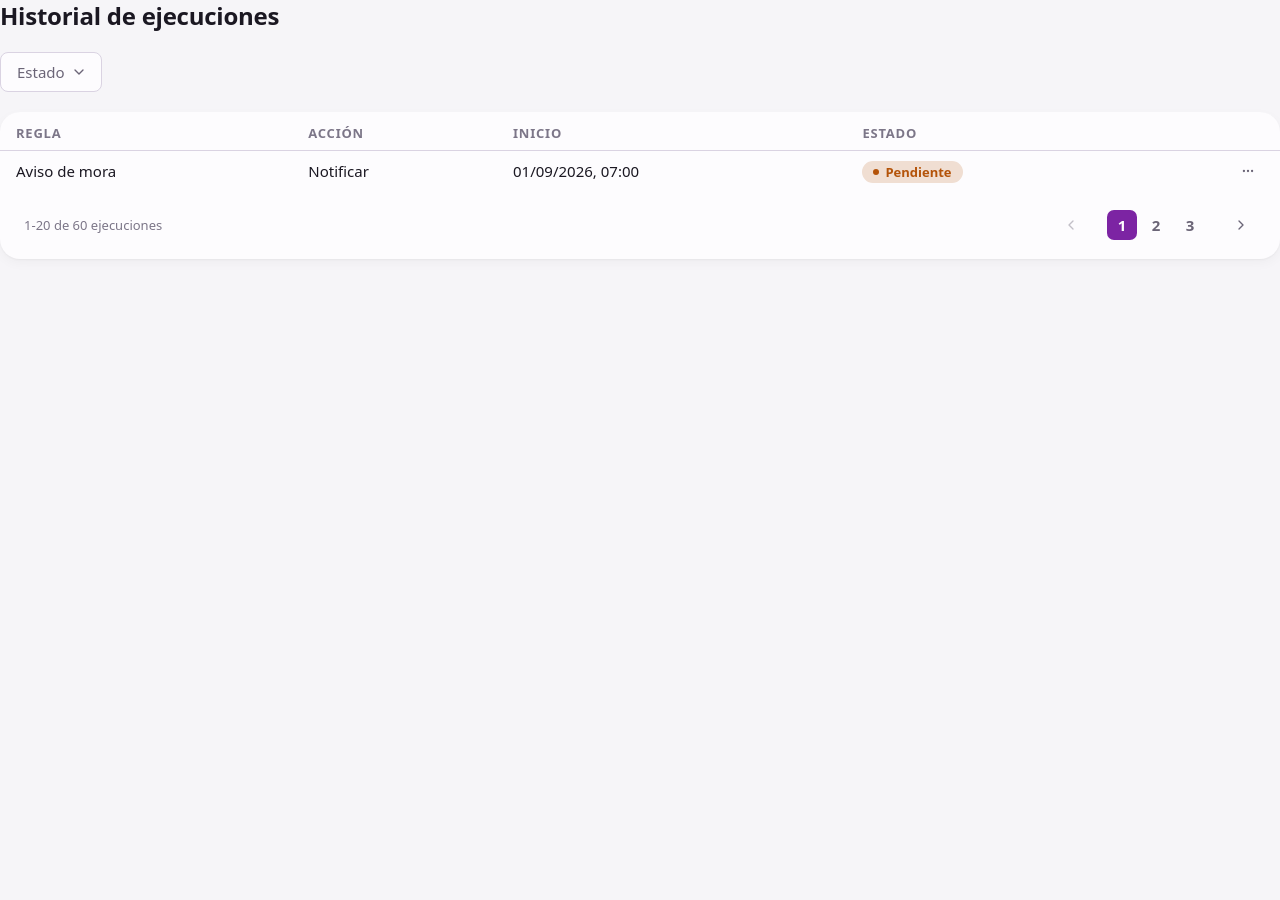
Test: EjecucionesWorkflowPage › aprobación › desde el detalle también se puede aprobar y el detalle muestra el resultado
The image size is (1280, 900).
Click the button named "Acciones para ": (1248, 171) [1232,155,1264,187]
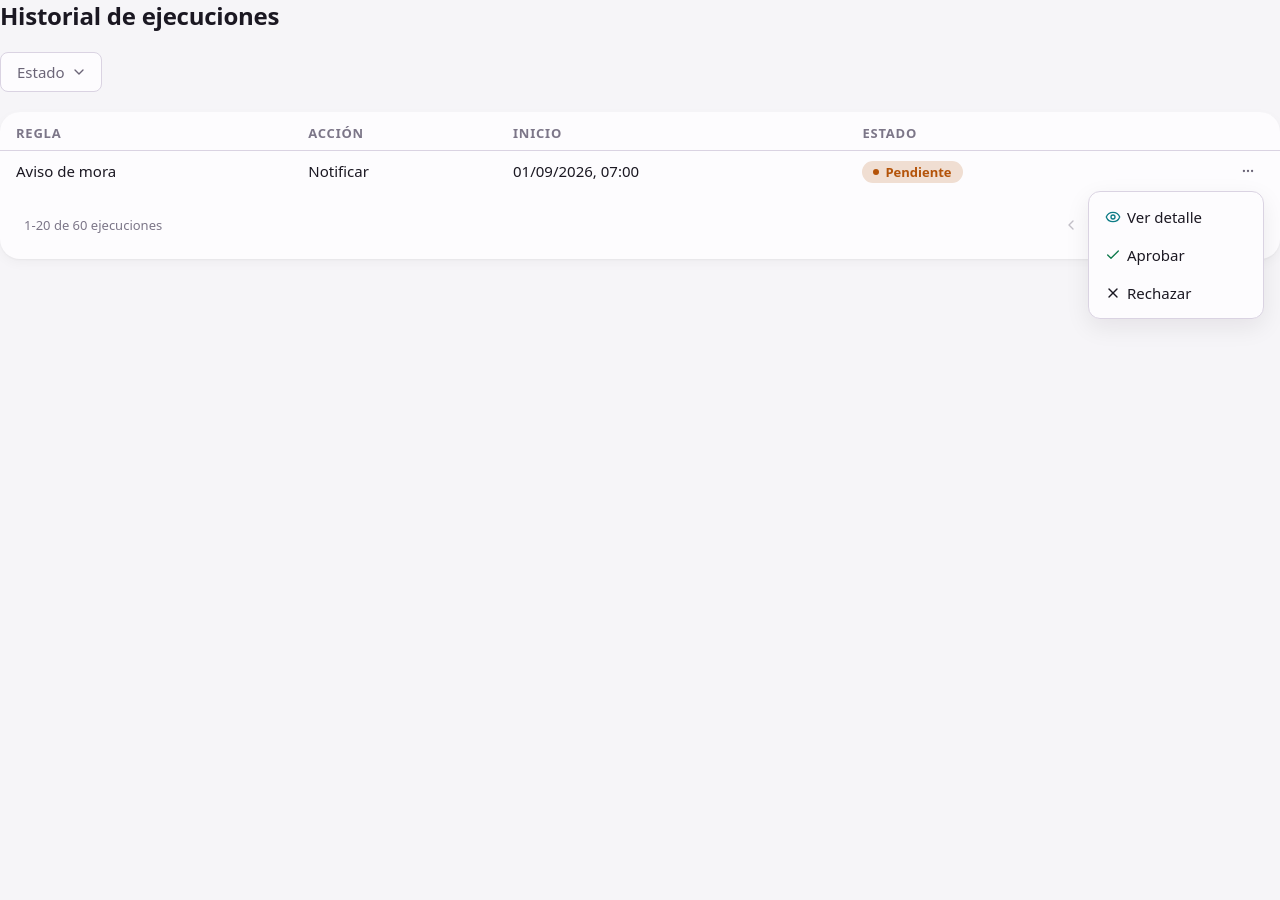
Click the menu item "Ver detalle": (1154, 217) [1105,207,1202,227]
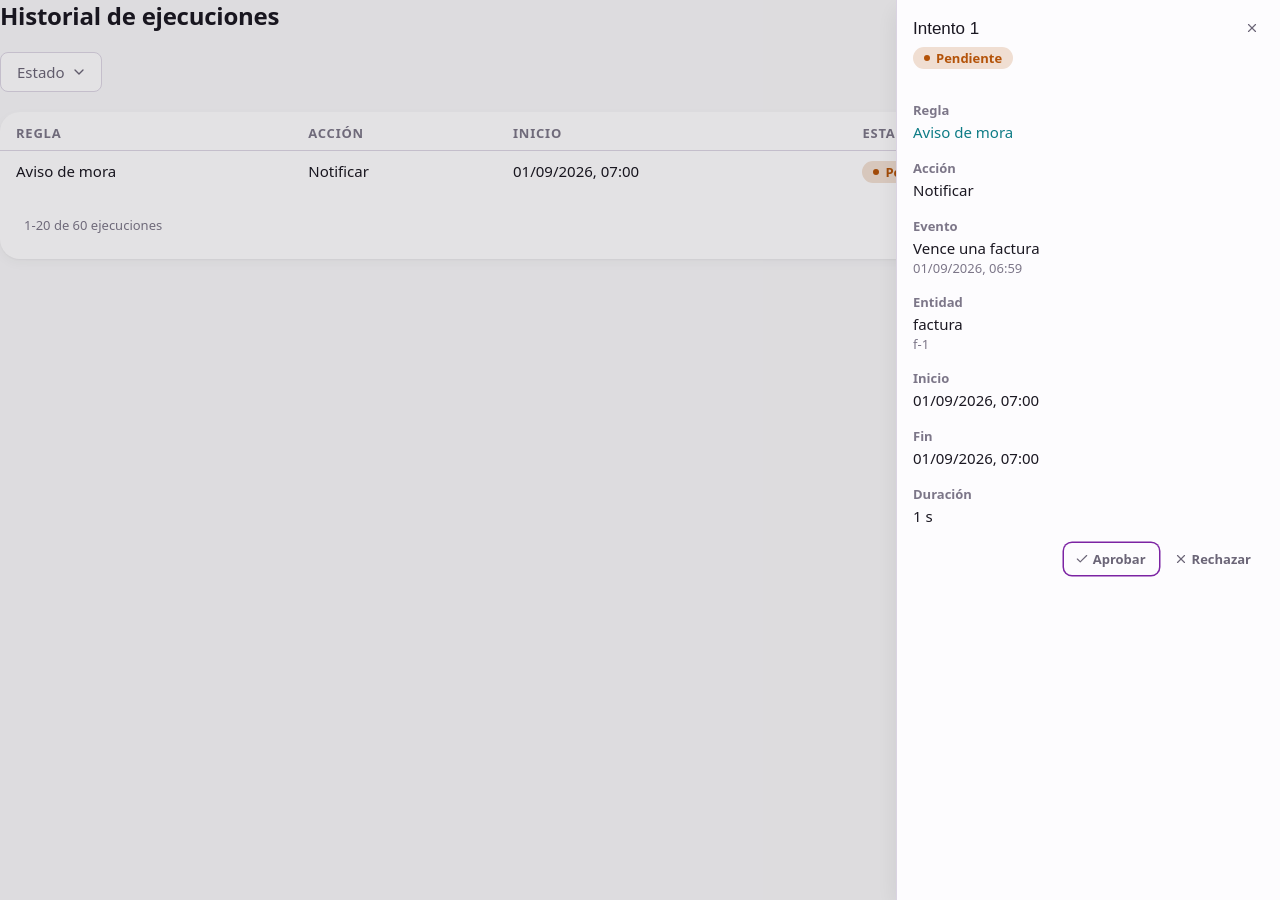
Click the button "Aprobar": (1111, 559) [1064,543,1159,575]
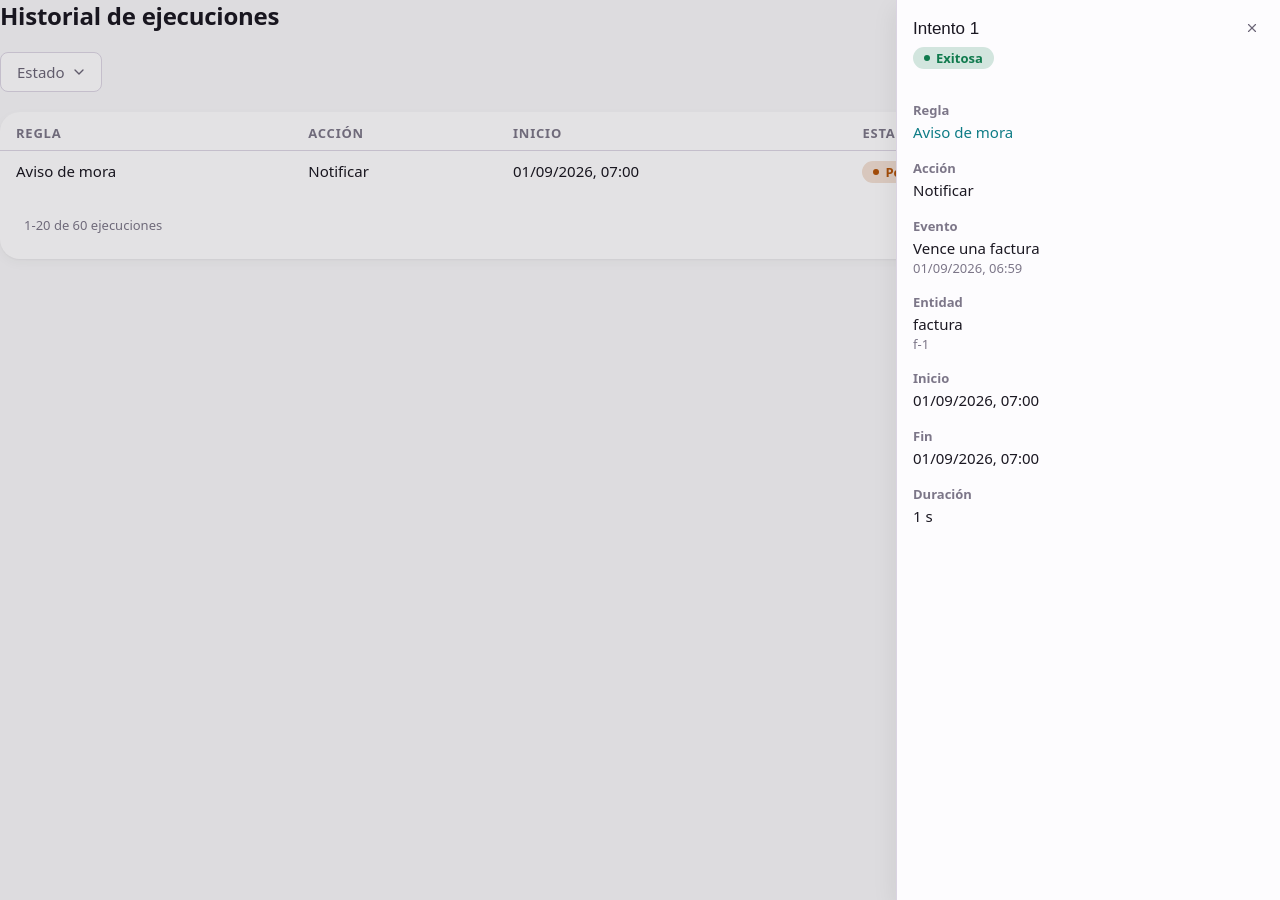
Expected: the text "Exitosa" is shown, [913,47,994,69]
Expected: the button "Aprobar" is gone
